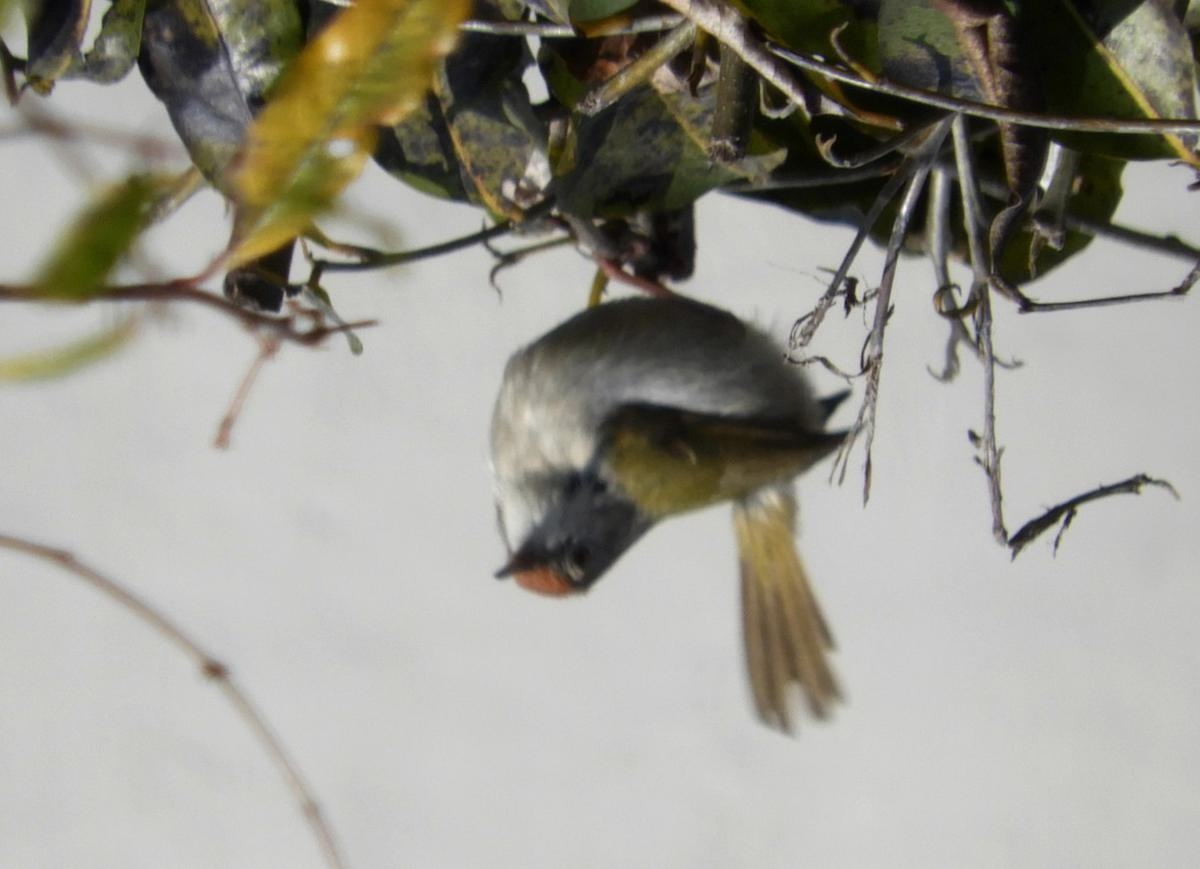tailorbird: (443, 251, 876, 747)
